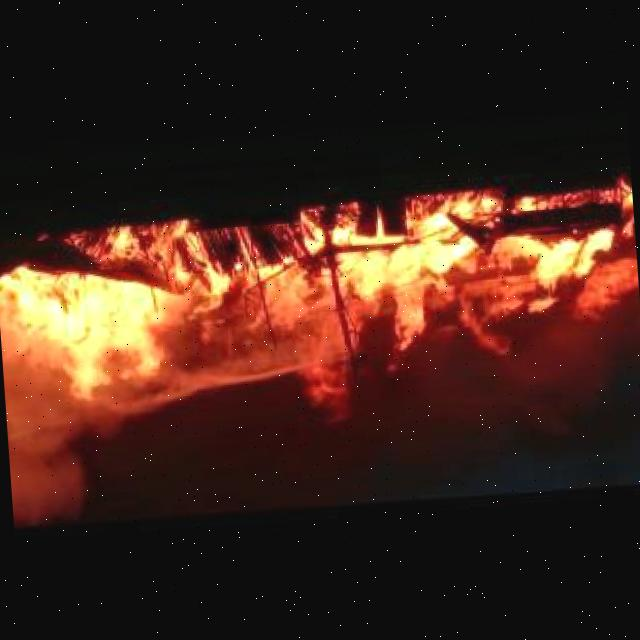fire: (0, 174, 640, 432)
